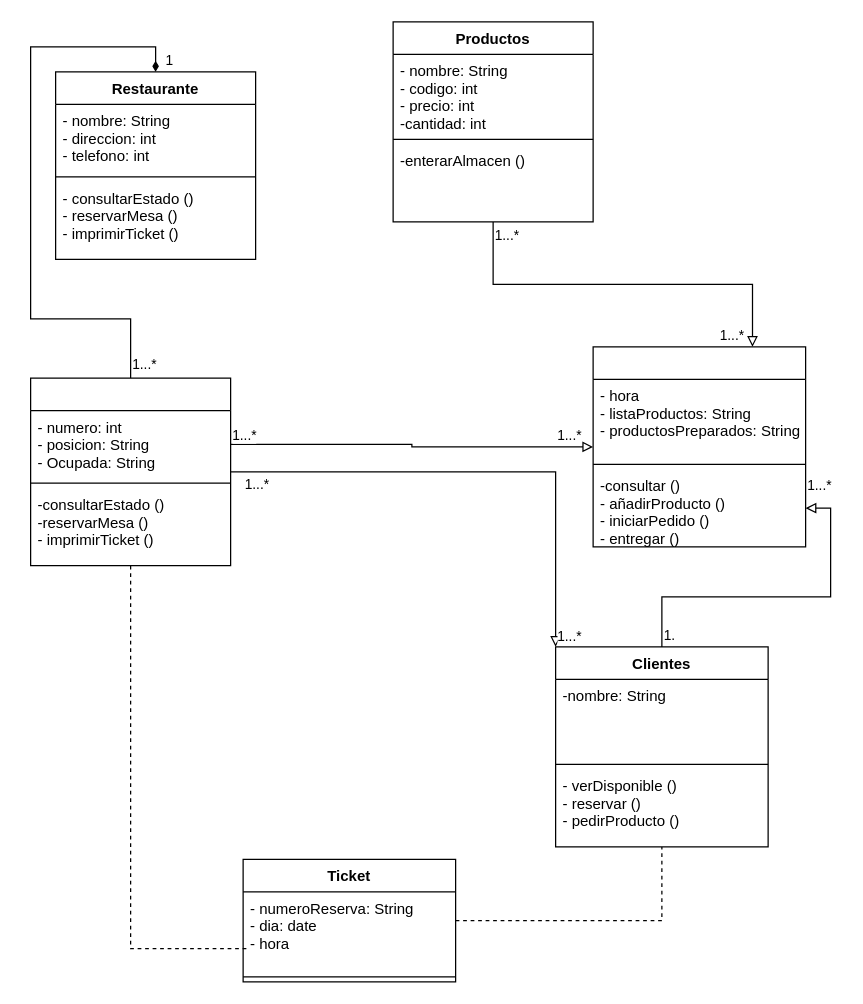
The diagram is 863 pixels wide and 1004 high, and some of its shapes have lost their labels. The box of each missing label's shape, as (x1, y1, x2, y2) in pixels:
Mesas: (29, 377, 231, 566)
Pedidos: (592, 346, 806, 547)
